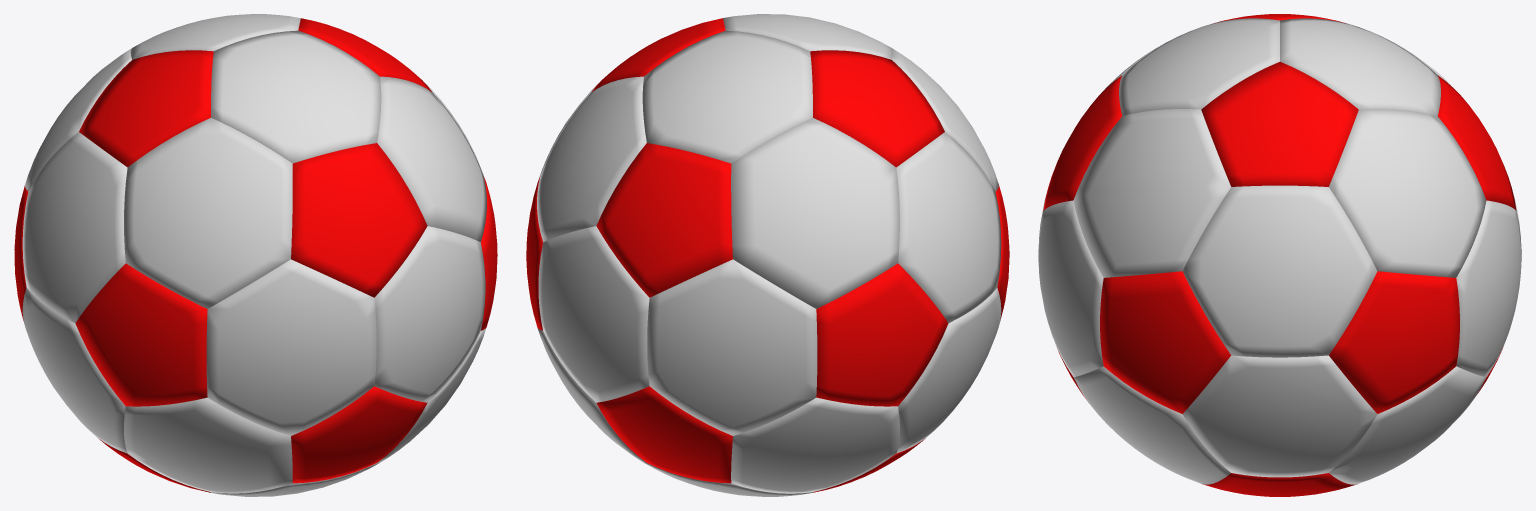
3 views of the same model, side by side, from view 1: azimuth 30°, elevation 25°; view 2: azimuth 150°, elevation 25°; view 3: azimuth 270°, elevation 25° (orthographic).
Parts seen in each view (by area): view 1: Soccer_Ball_0; view 2: Soccer_Ball_0; view 3: Soccer_Ball_0.
Part boxes in pixels (x1,y1,x2,y2): Soccer_Ball_0: (14, 14, 497, 496); Soccer_Ball_0: (526, 14, 1009, 496); Soccer_Ball_0: (1038, 14, 1521, 496).
Bounding box in the file's own units: 1.68 × 1.68 × 1.68.
